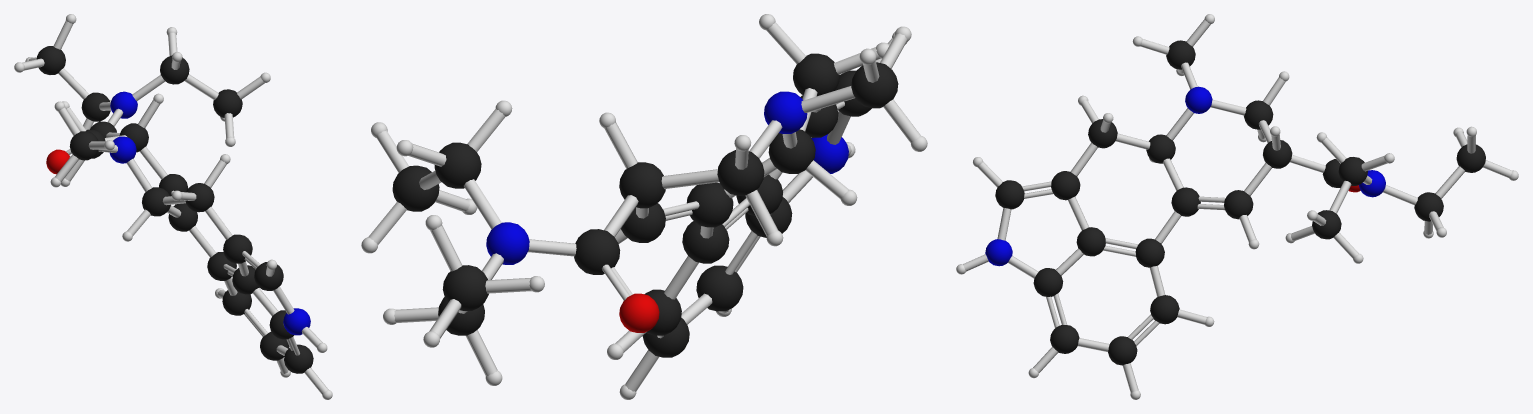
File: acid1.fbx
3 views of the same model, side by side, from view 1: azimuth 30°, elevation 25°; view 2: azimuth 150°, elevation 25°; view 3: azimuth 270°, elevation 25° (orthographic). The views are drawn at different scales.
Parts seen in each view (by area): view 1: Group18, Group11, Group5, Group10, Group1, Group9, Group14, Group7, Group8, Group4, Group21, Group3 (+17 smaller); view 2: Group16, Group10, Group2, Group8, Group5, Group21, Group14, Group11, Group15, Group9, Group1, Group17 (+33 smaller); view 3: Group4, Group6, Group17, Group25, Group3, Group18, Group22, Group5, Group21, Group19, Group1, Group9 (+9 smaller).
Boxes of the visible parts, left/top/right/bottom form: Group18: left=223, top=234, right=252, bottom=263; Group11: left=213, top=89, right=242, bottom=117; Group5: left=284, top=344, right=313, bottom=373; Group10: left=36, top=46, right=65, bottom=74; Group1: left=142, top=187, right=170, bottom=216; Group9: left=69, top=131, right=98, bottom=160; Group14: left=185, top=183, right=214, bottom=212; Group7: left=81, top=92, right=110, bottom=121; Group8: left=160, top=55, right=189, bottom=84; Group4: left=254, top=262, right=283, bottom=290; Group21: left=168, top=203, right=197, bottom=231; Group3: left=222, top=290, right=251, bottom=315; Group16: left=574, top=229, right=620, bottom=274; Group10: left=442, top=265, right=488, bottom=310; Group2: left=619, top=162, right=665, bottom=208; Group8: left=434, top=142, right=481, bottom=188; Group5: left=696, top=265, right=743, bottom=311; Group21: left=686, top=182, right=733, bottom=227; Group14: left=793, top=53, right=839, bottom=96; Group11: left=392, top=165, right=439, bottom=211; Group15: left=717, top=150, right=764, bottom=195; Group9: left=851, top=62, right=898, bottom=108; Group1: left=768, top=129, right=815, bottom=173; Group17: left=682, top=221, right=729, bottom=263; Group4: left=995, top=180, right=1024, bottom=209; Group6: left=1108, top=336, right=1137, bottom=365; Group17: left=1135, top=238, right=1164, bottom=267; Group25: left=1076, top=227, right=1105, bottom=256; Group3: left=1150, top=295, right=1179, bottom=324; Group18: left=1051, top=171, right=1080, bottom=200; Group22: left=1033, top=268, right=1063, bottom=296; Group5: left=1050, top=325, right=1079, bottom=353; Group21: left=1171, top=187, right=1200, bottom=216; Group19: left=1224, top=190, right=1253, bottom=219; Group1: left=1146, top=134, right=1175, bottom=163; Group9: left=1166, top=40, right=1195, bottom=69.
Bounding box in the file's own units: 608 × 601 × 1045.
